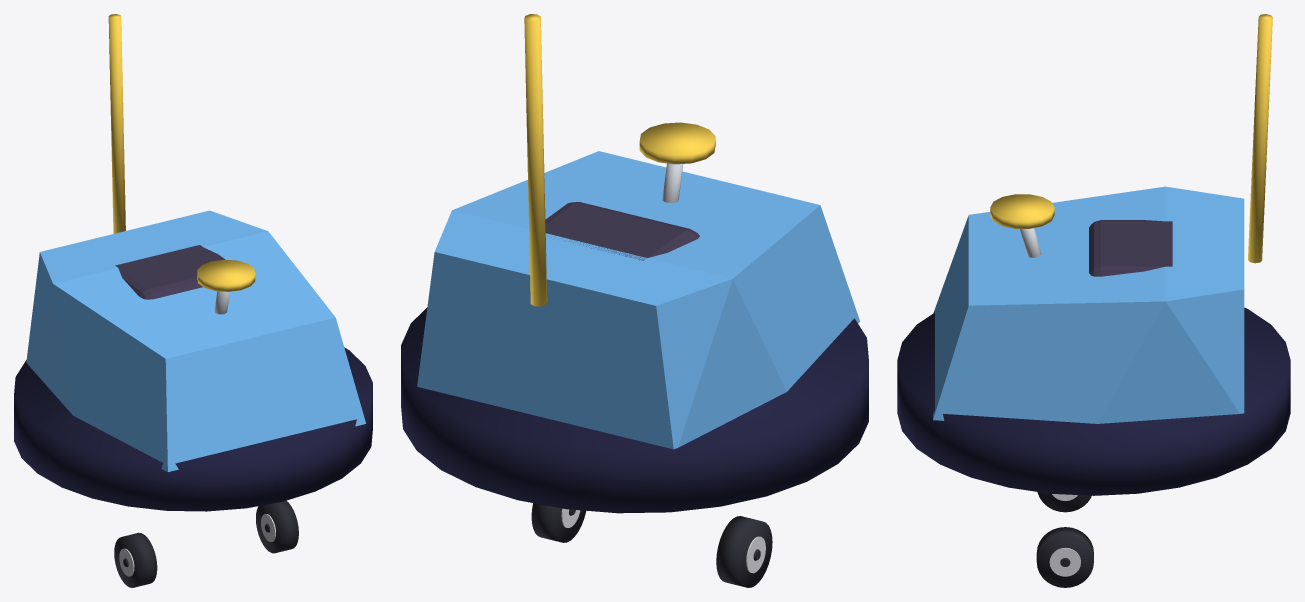
Rendered from Car_Bumper.fbx.
The picture shows the model from 3 angles, left to right: view 1: azimuth 30°, elevation 25°; view 2: azimuth 150°, elevation 25°; view 3: azimuth 270°, elevation 25°; orthographic projection. The views are drawn at different scales.
Parts seen in each view (by area): view 1: Car_Bumper, Wheel_FL, Wheel_FR; view 2: Car_Bumper, Wheel_FL, Wheel_FR; view 3: Car_Bumper, Wheel_FR, Wheel_FL.
Boxes of the visible parts, bbox=[...] form: Car_Bumper: bbox=[14, 14, 372, 511]; Wheel_FL: bbox=[114, 532, 157, 587]; Wheel_FR: bbox=[256, 500, 298, 553]; Car_Bumper: bbox=[401, 14, 868, 513]; Wheel_FL: bbox=[716, 516, 772, 587]; Wheel_FR: bbox=[531, 503, 586, 542]; Car_Bumper: bbox=[897, 14, 1290, 495]; Wheel_FR: bbox=[1036, 527, 1093, 587]; Wheel_FL: bbox=[1037, 492, 1091, 512].
Bounding box in the file's own units: 1.1 × 1.63 × 1.1.
